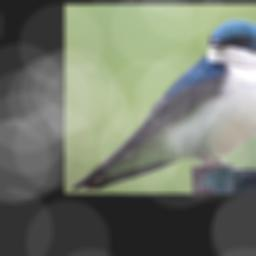Swallow: (70, 19, 256, 193)
